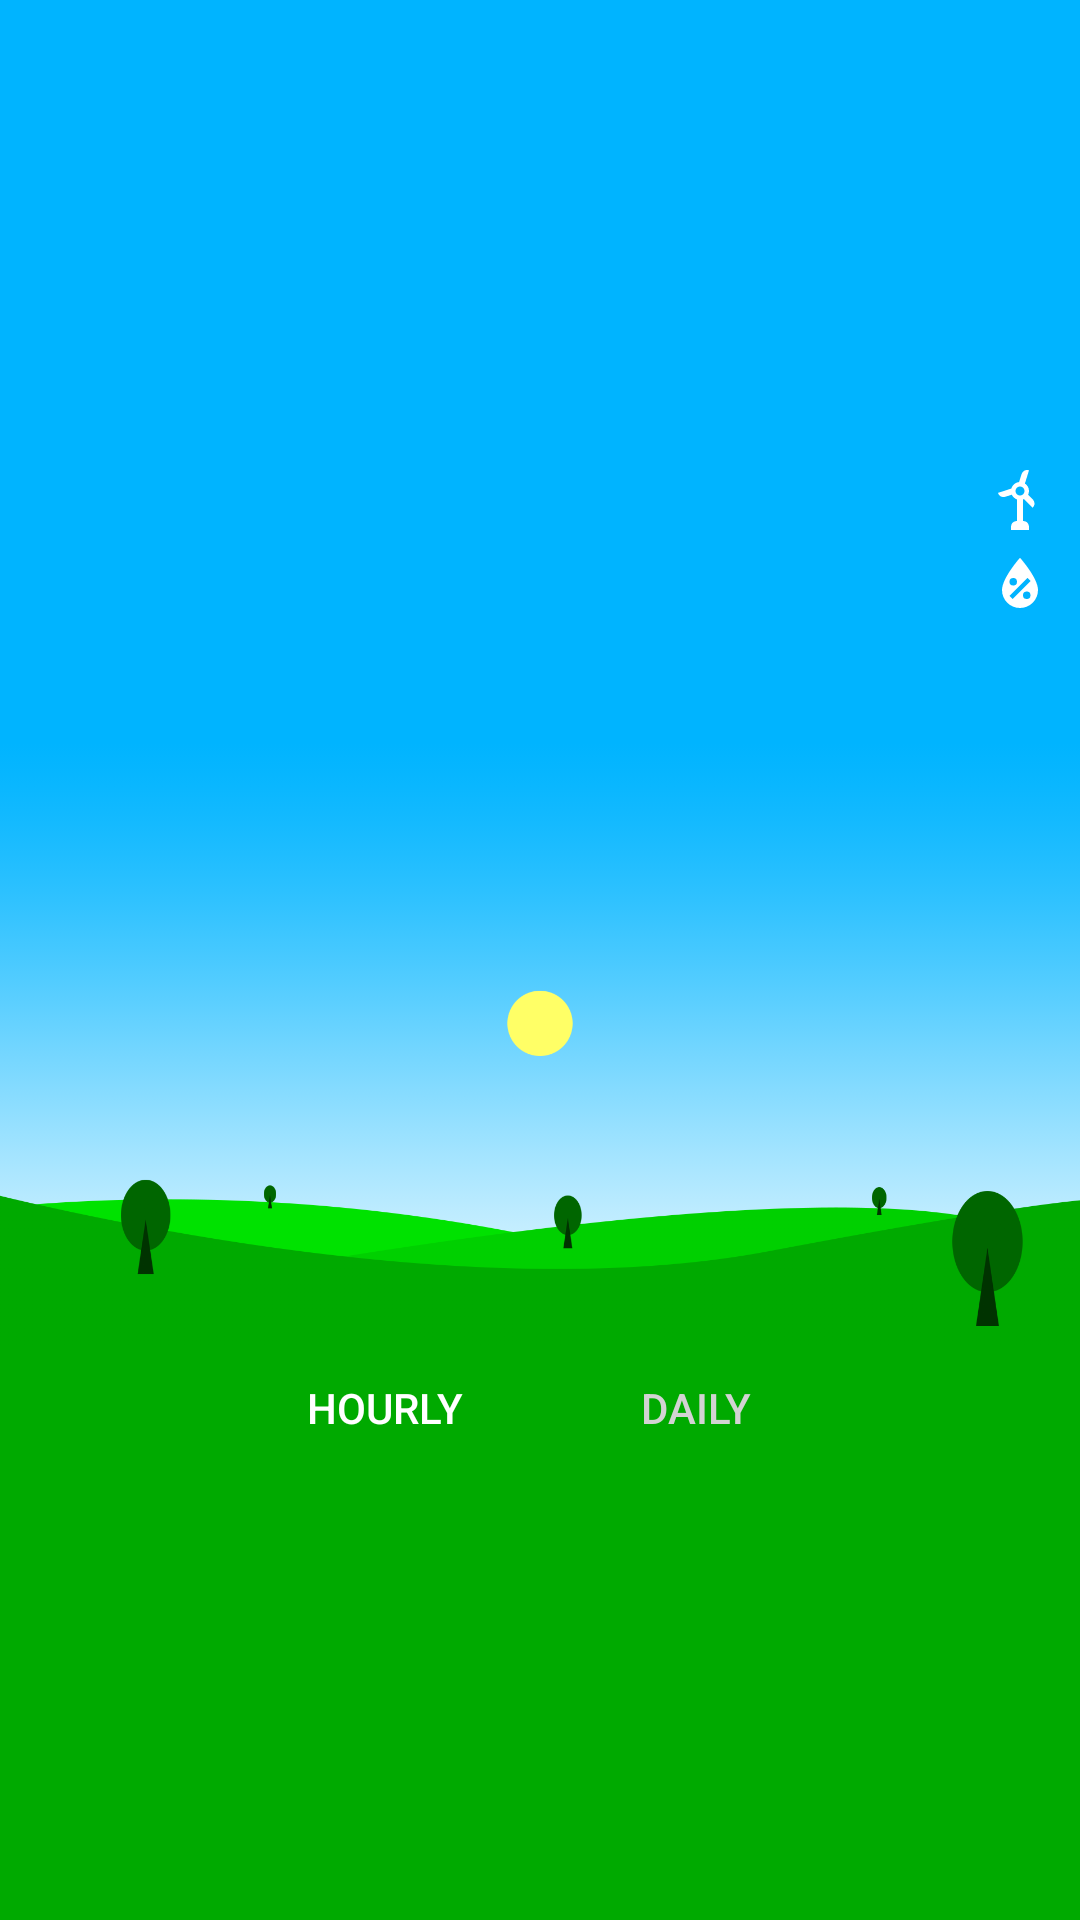

Icon click points for this 1080px x 1920px phone screenshot, format (x,y):
water percent: (1020,583)
wind turbine: (1016,500)
